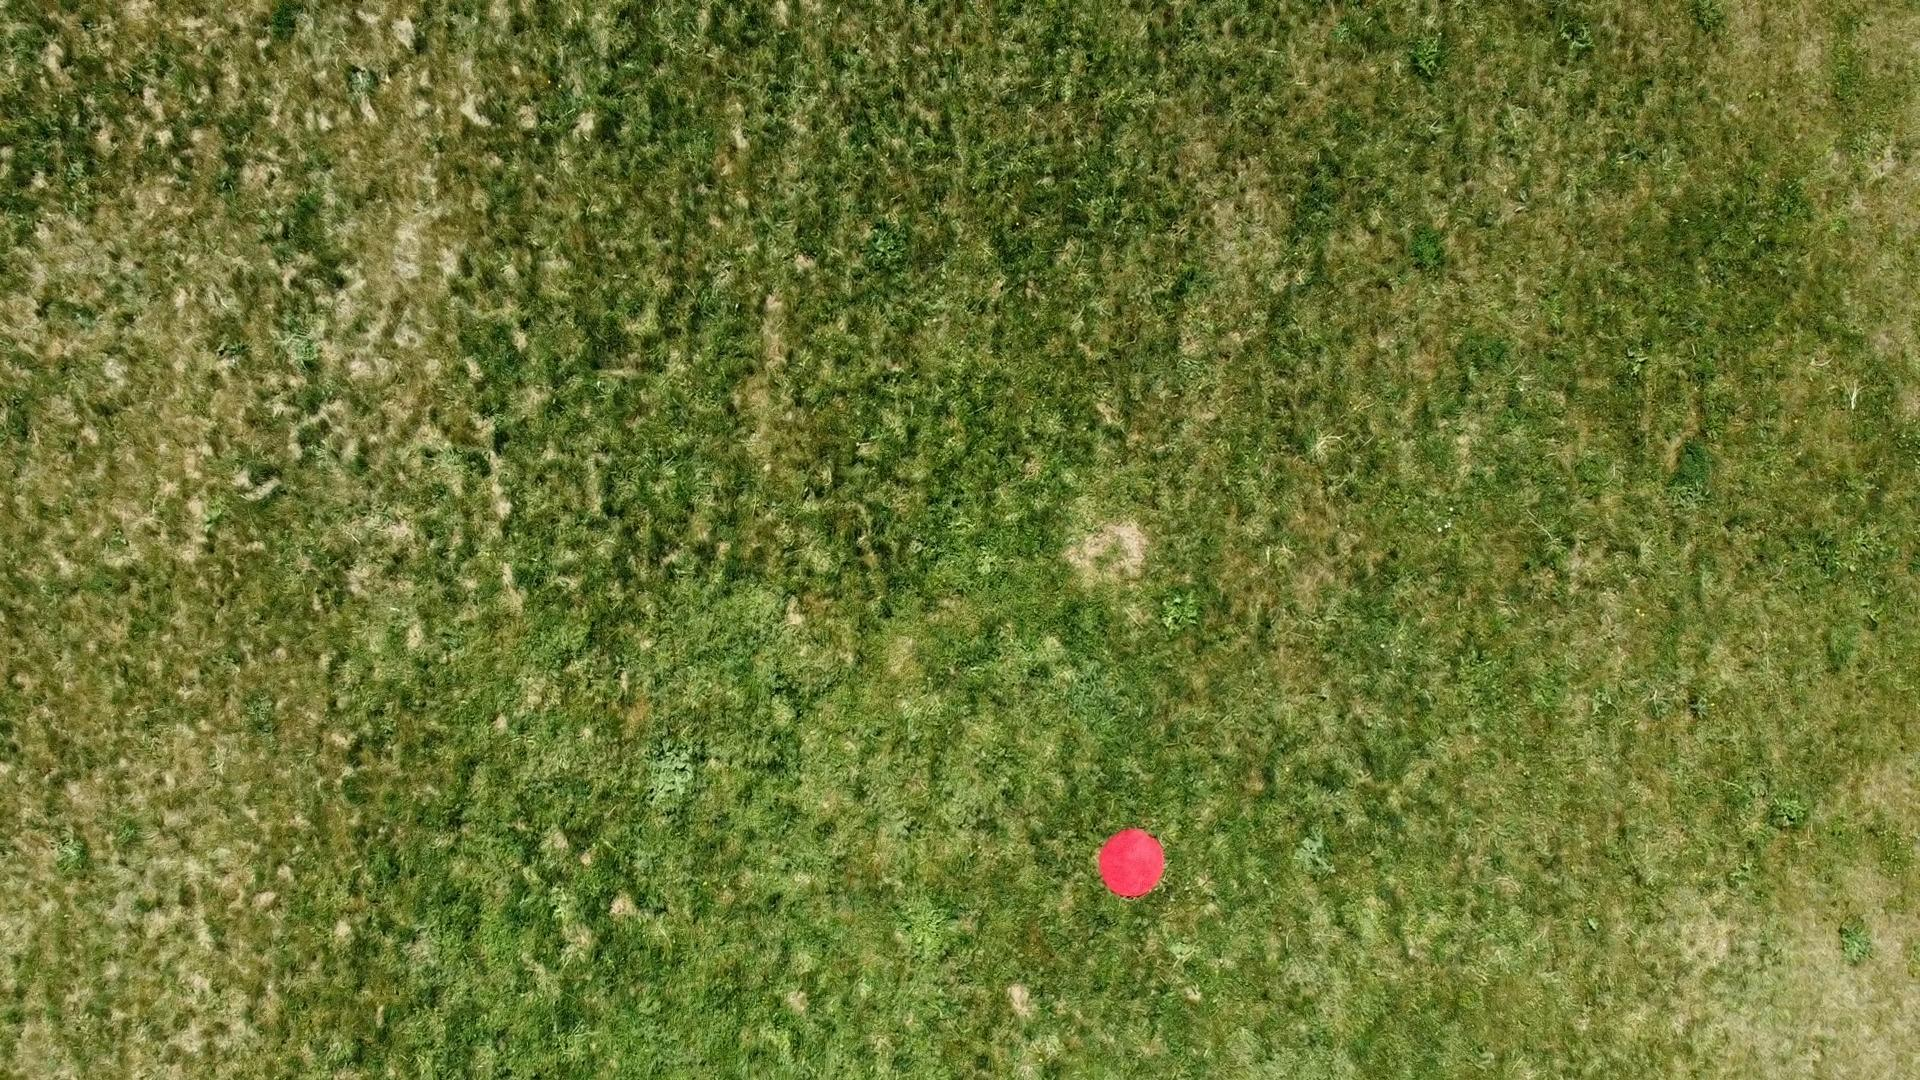Red: (1097, 828, 1167, 898)
